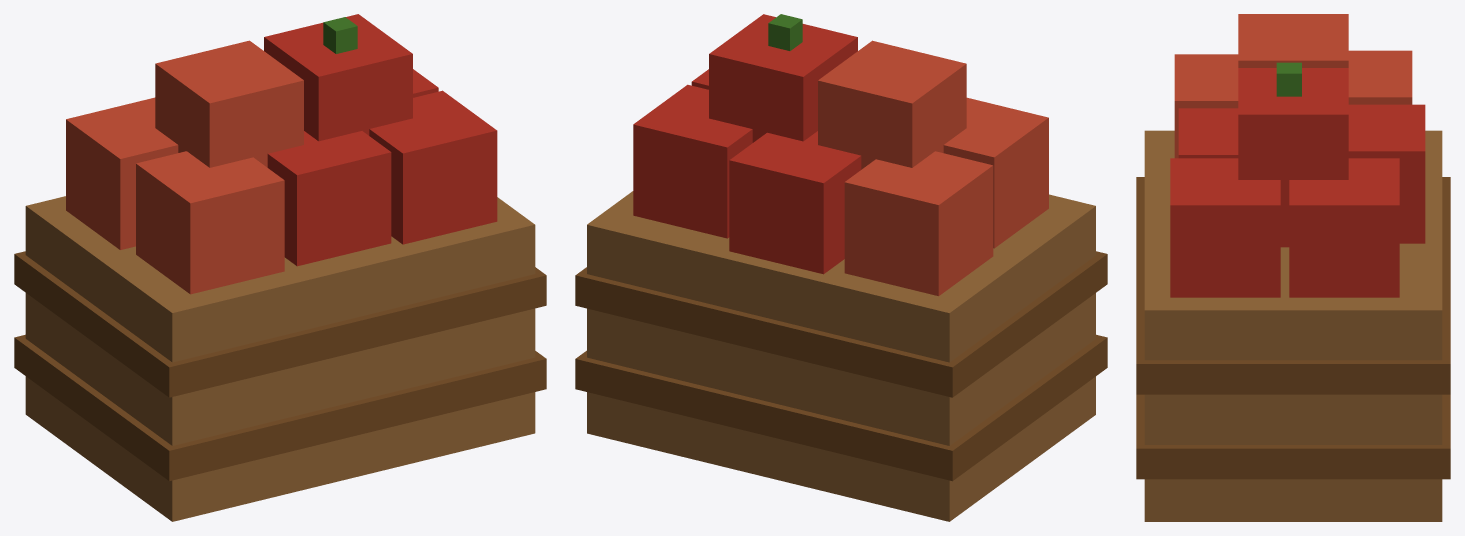
The model's file is nt-apple-crate.glb.
3 renders of one model, left to right at view 1: azimuth 30°, elevation 25°; view 2: azimuth 150°, elevation 25°; view 3: azimuth 270°, elevation 25°, orthographic.
Parts seen in each view (by area): view 1: box-prop; view 2: box-prop; view 3: box-prop.
Part boxes in pixels (x1,y1,x2,y2): box-prop: (14,14,546,521); box-prop: (575,14,1107,521); box-prop: (1136,14,1450,521).
Bounding box in the file's own units: 1.04 × 1.02 × 0.74.
